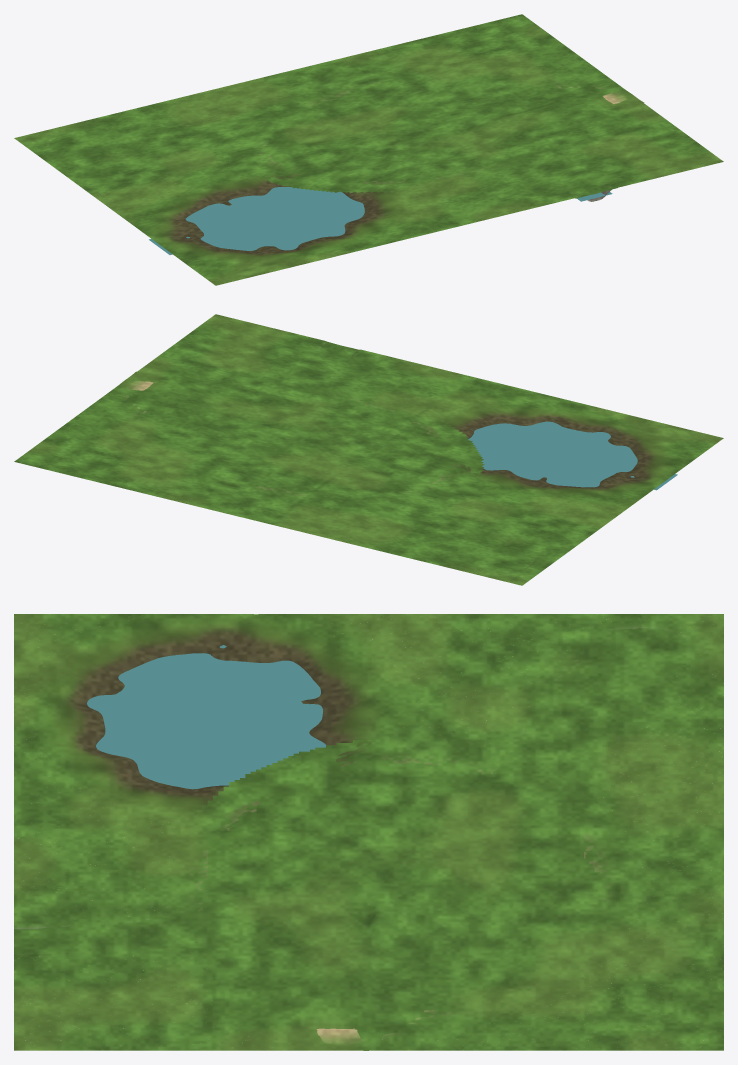
File: bio_terrain.glb
3 renders of one model, top to bottom at view 1: azimuth 30°, elevation 25°; view 2: azimuth 150°, elevation 25°; view 3: azimuth 270°, elevation 25°, orthographic. The views are drawn at different scales.
Parts seen in each view (by area): view 1: terrain, cover_pond, water_wet, cover_stream; view 2: terrain, cover_pond, water_wet, cover_stream; view 3: terrain, cover_pond, water_wet, cover_stream.
Part boxes in pixels (left/top/right/bottom): terrain: left=14, top=14, right=723, bottom=285; cover_pond: left=235, top=62, right=645, bottom=198; water_wet: left=149, top=187, right=364, bottom=254; cover_stream: left=48, top=112, right=304, bottom=160; terrain: left=14, top=314, right=723, bottom=585; cover_pond: left=108, top=341, right=484, bottom=505; water_wet: left=468, top=421, right=677, bottom=490; cover_stream: left=326, top=488, right=539, bottom=571; terrain: left=14, top=614, right=723, bottom=1050; cover_pond: left=14, top=737, right=637, bottom=1050; water_wet: left=87, top=645, right=325, bottom=789; cover_stream: left=479, top=628, right=696, bottom=822.
Bounding box in the file's own units: 16 × 0.9219 × 11.
Materials: 3 (2 with a texture image).
